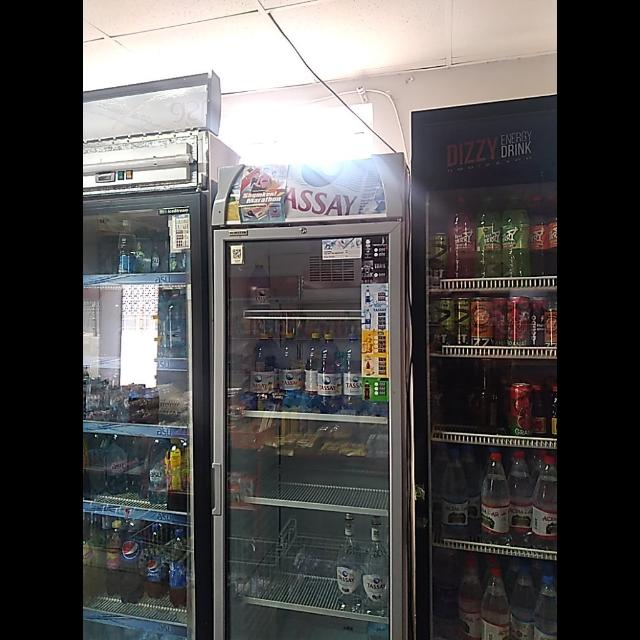Cooling-Display: (210, 153, 406, 639)
